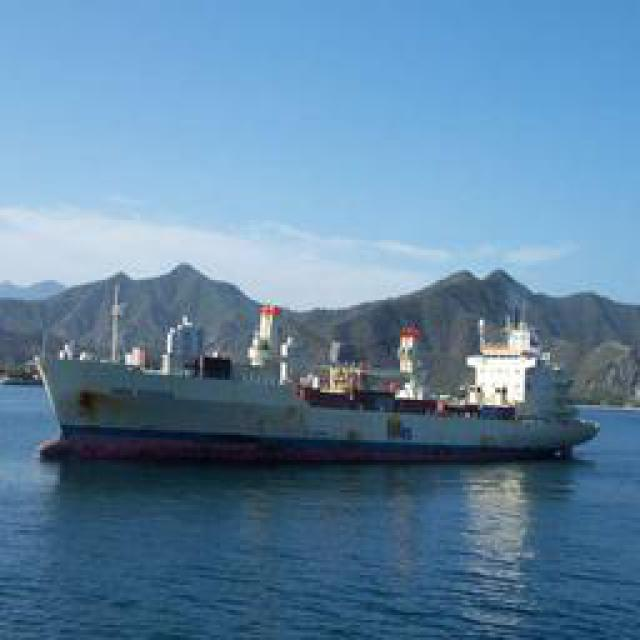Ship: (37, 283, 595, 468)
